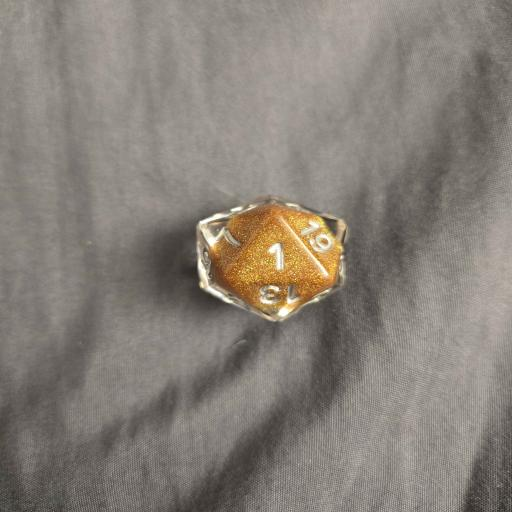twenty sided dice: (195, 194, 348, 322)
